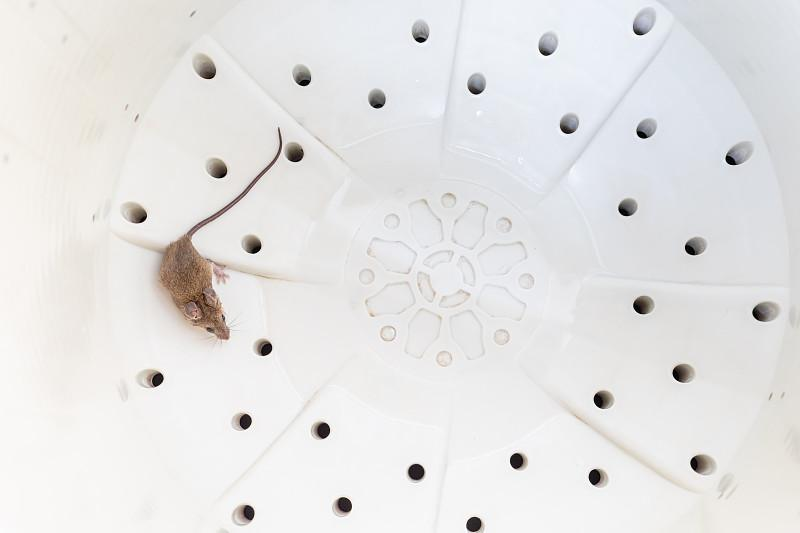rat: (153, 217, 234, 344)
